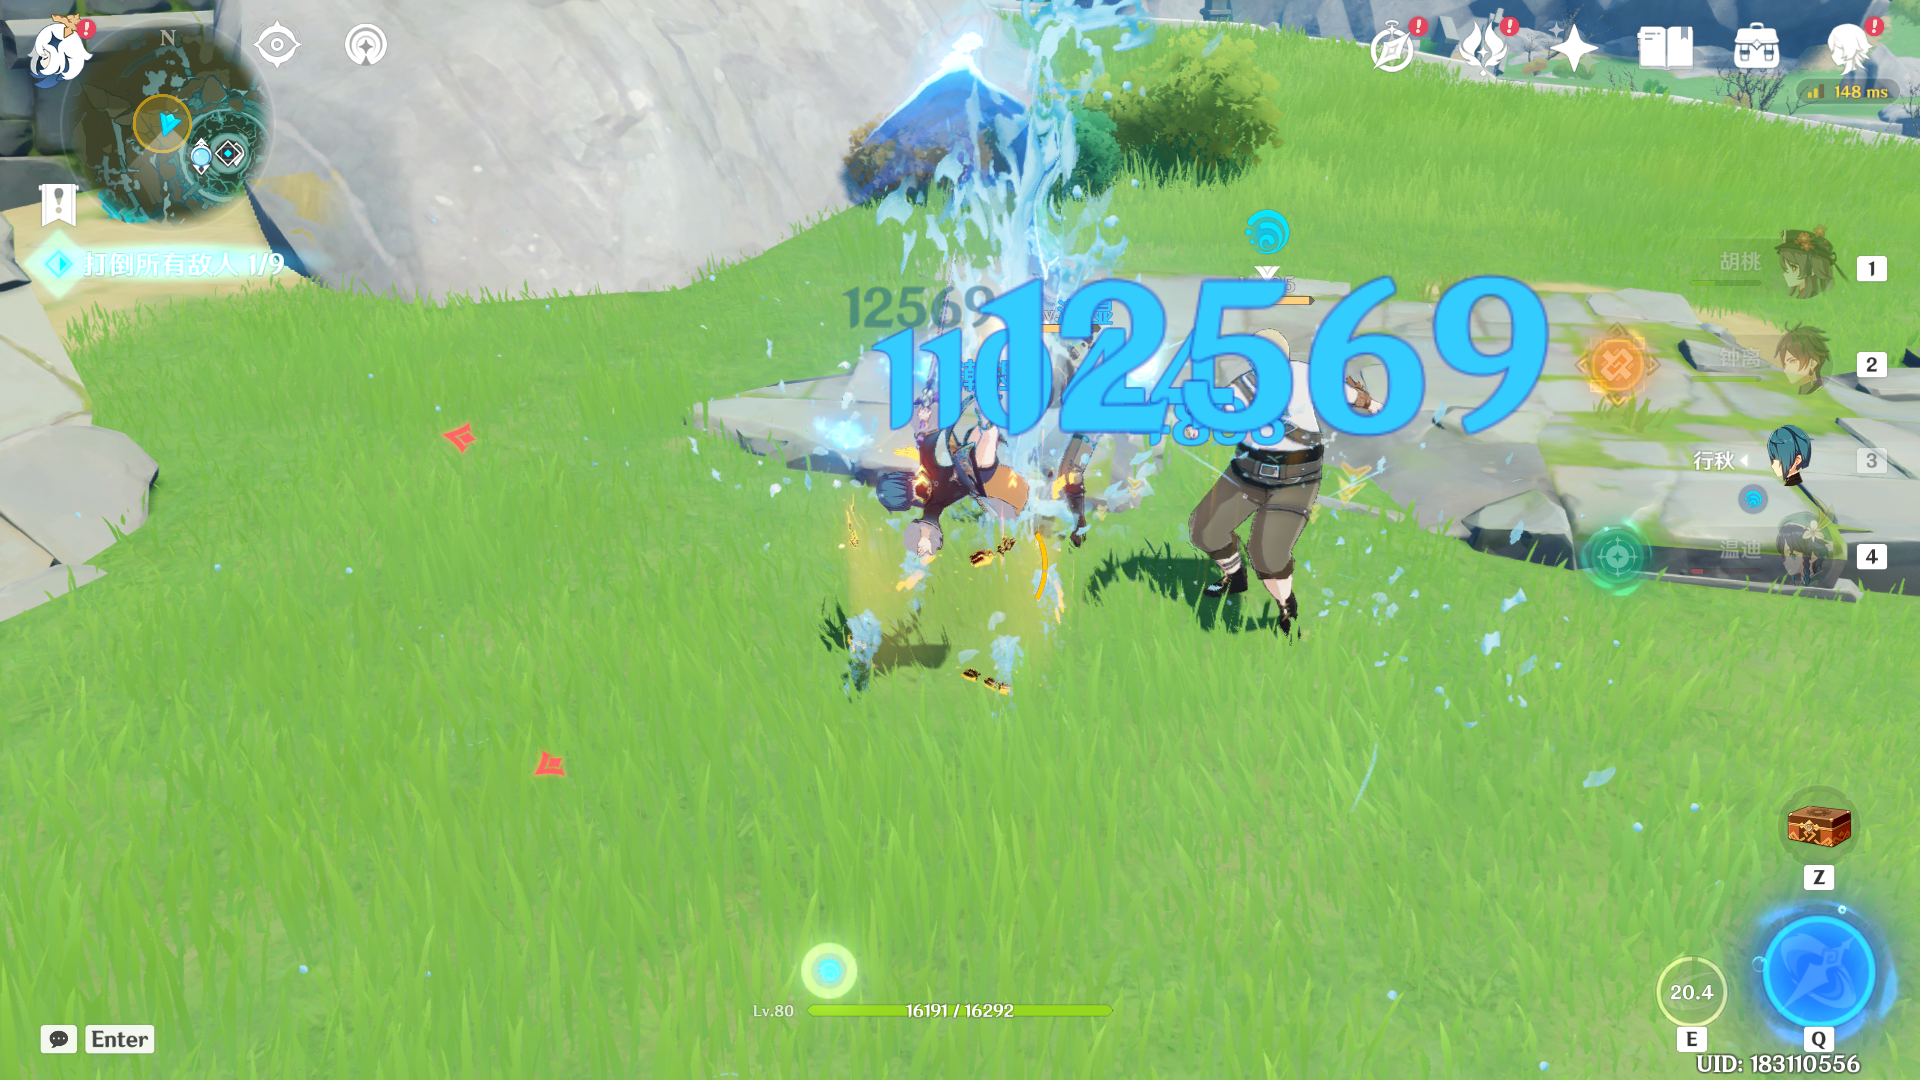robber: (1178, 294, 1396, 659)
